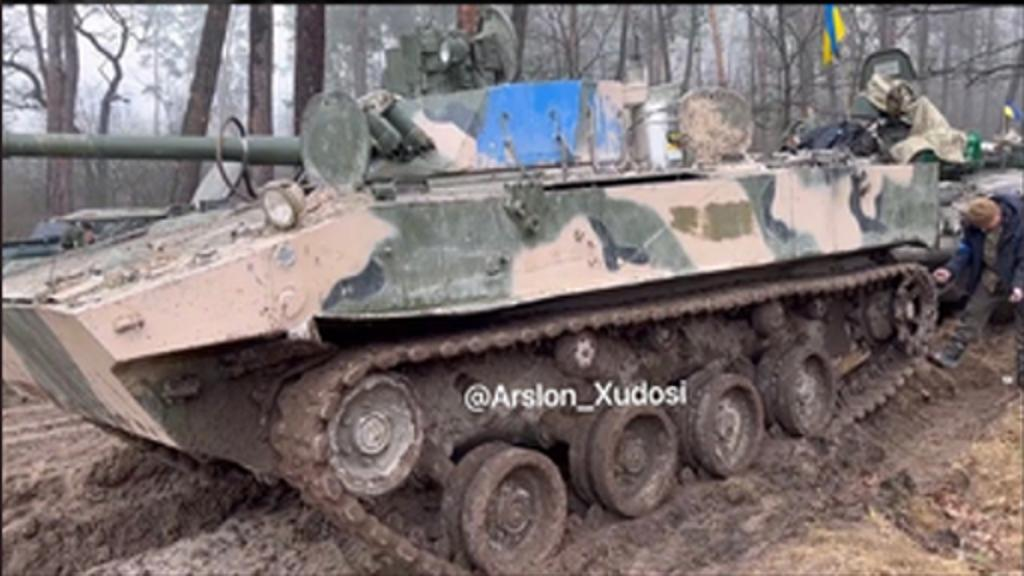APC-IFV: (0, 68, 954, 572)
